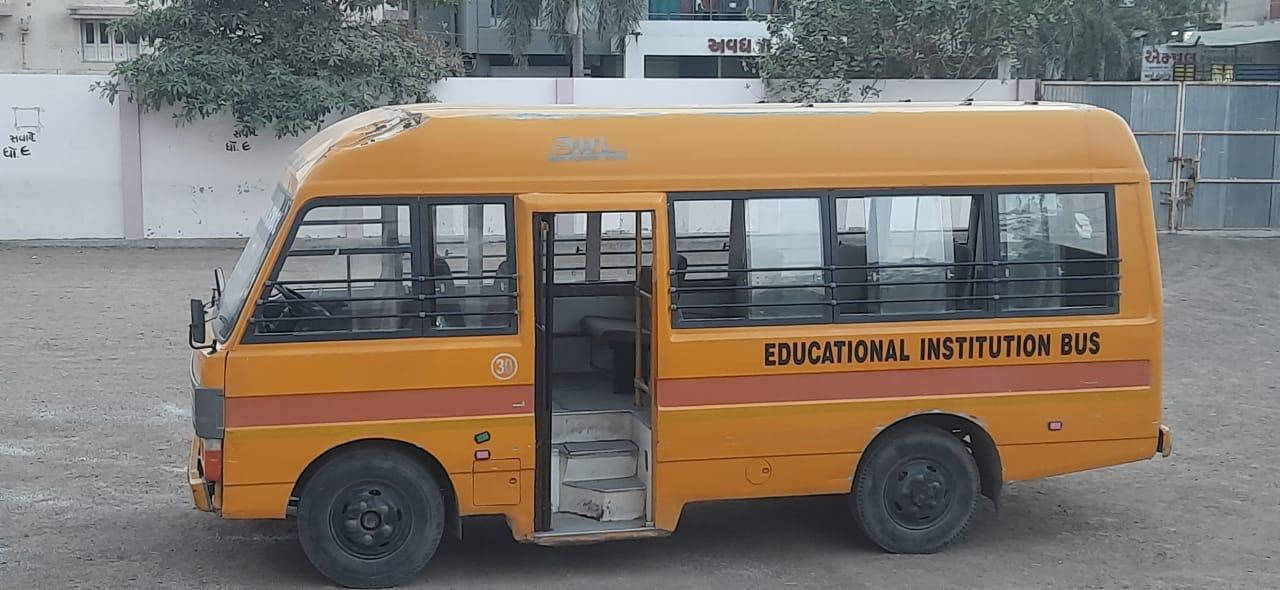Bus: (163, 84, 1180, 575)
